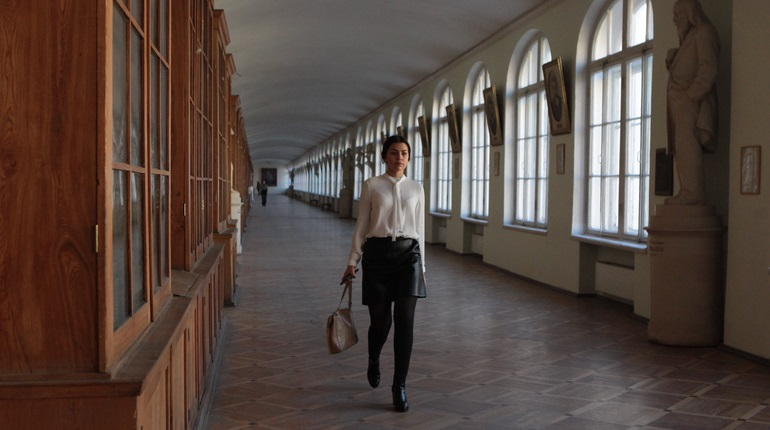students: (327, 134, 426, 413), (259, 178, 269, 207)
